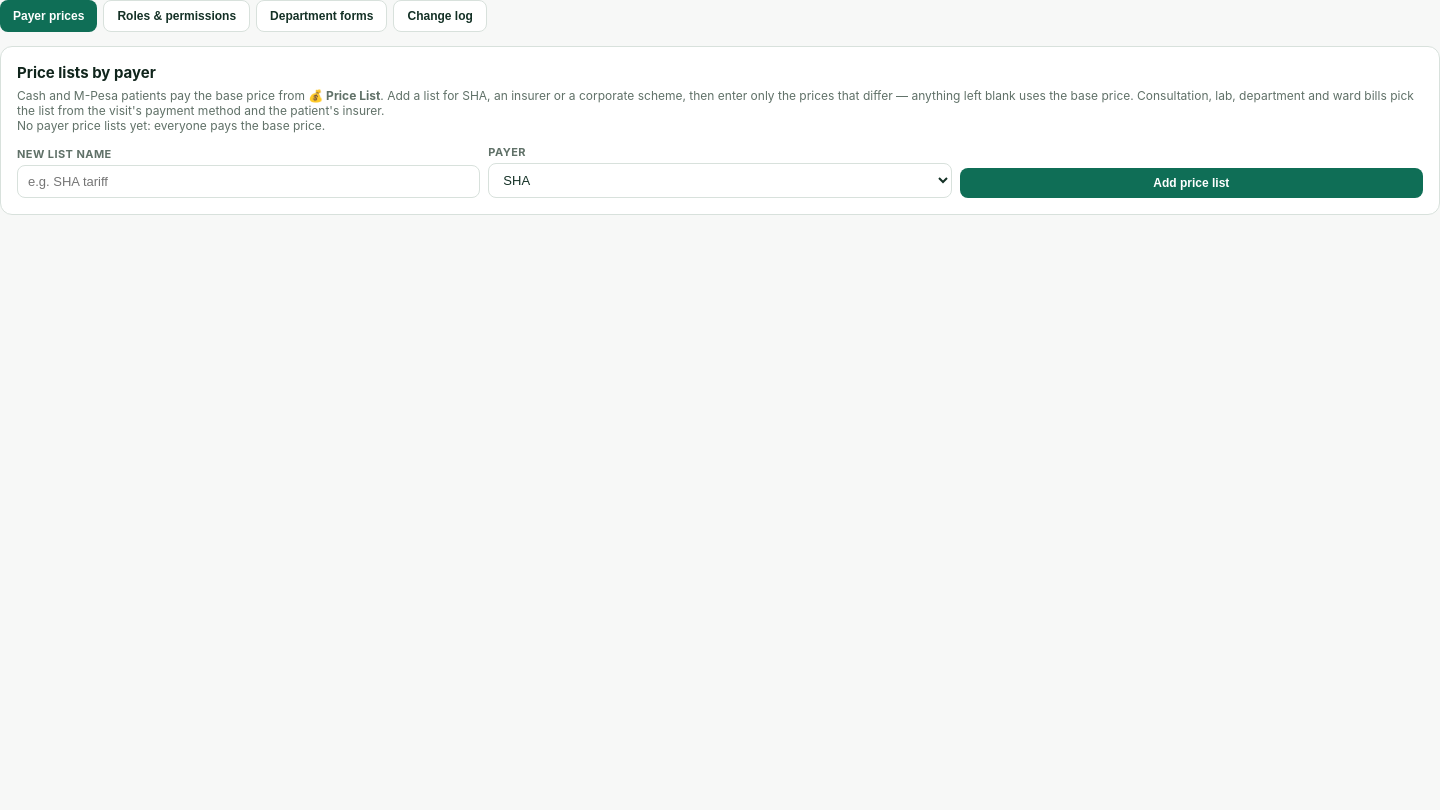
Settings → Configuration › lists configuration changes with who made them
This screenshot has width=1440, height=810.
Click the tab "Change log": [440, 16] box left=394, top=0, right=487, bottom=32
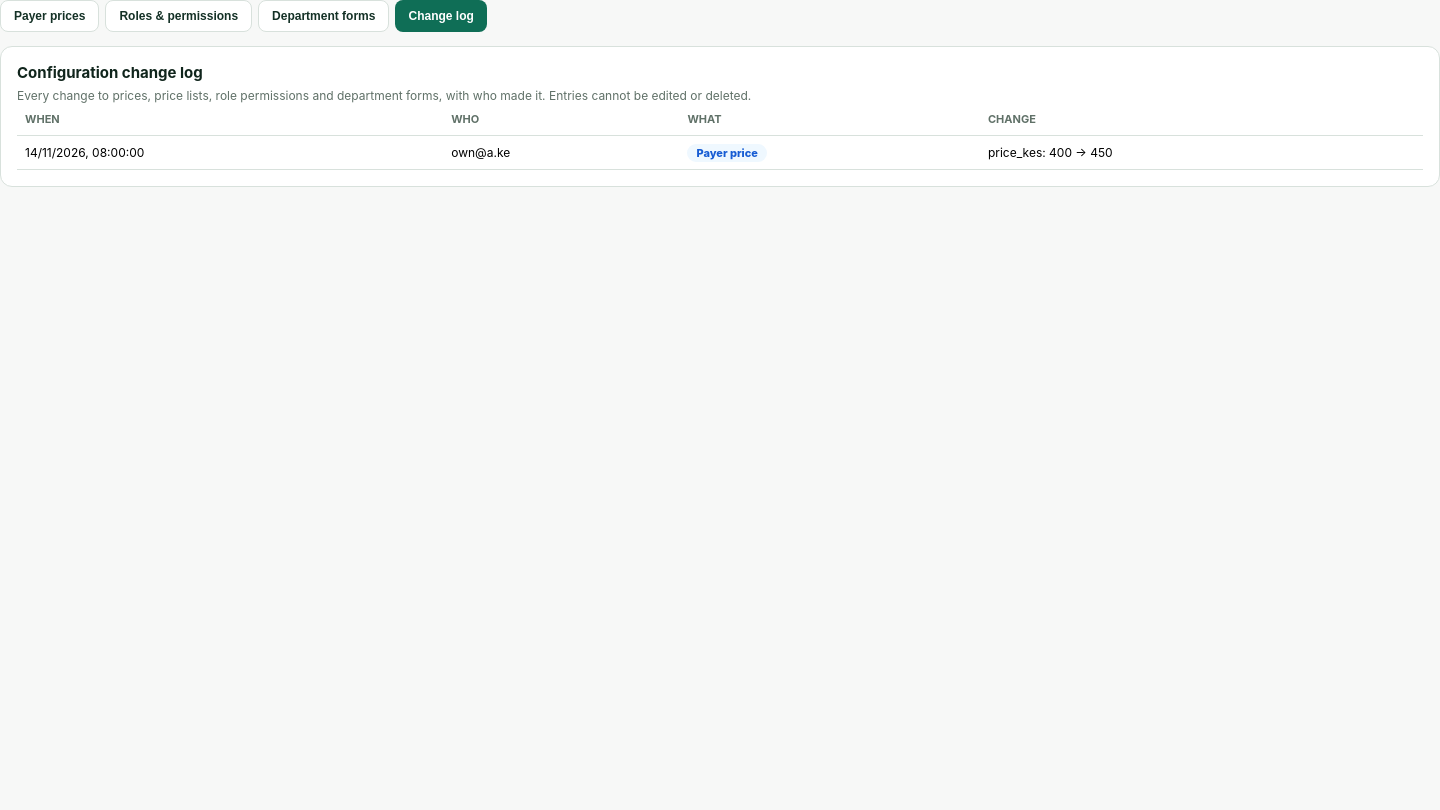
expect the text "price_kes: 400 → 450" is shown: met, box left=980, top=136, right=1423, bottom=170
expect the text "own@a.ke" is shown: met, box left=443, top=136, right=679, bottom=170
